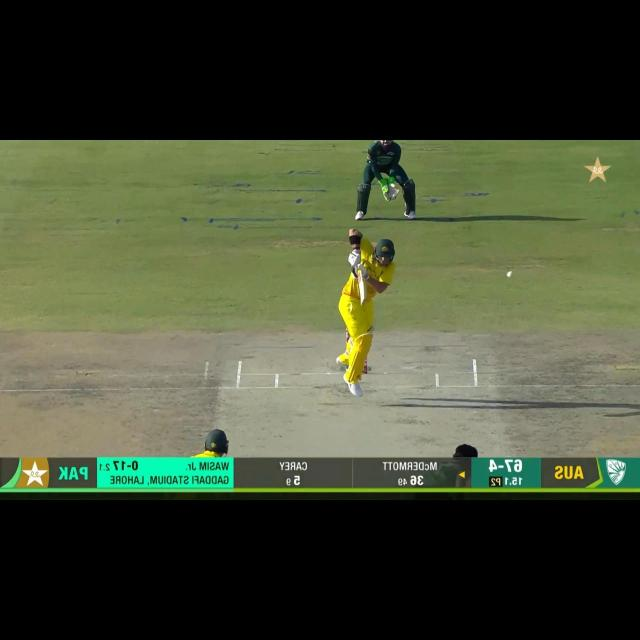bat: (356, 268, 366, 306)
toe: (357, 295, 367, 306)
